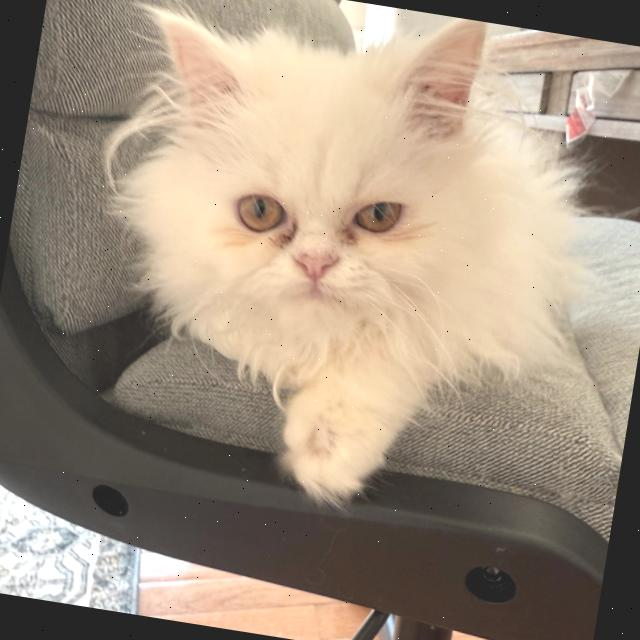persian_cat: (61, 0, 554, 421)
